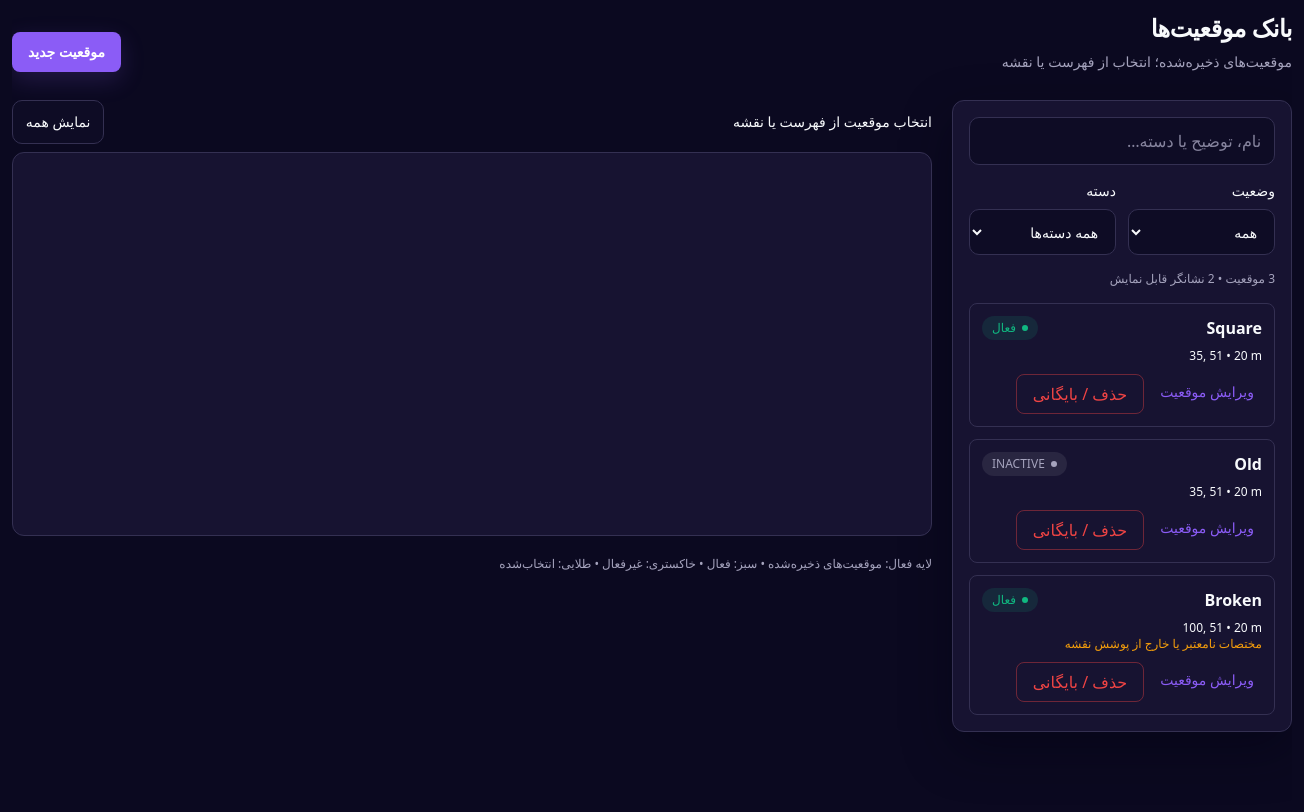
Scenario: synchronizes list and marker selection, filters markers, and exposes invalid records
Expected: the text "Square" is shown, [1206,316,1262,340]
Click the button "Square فعال 35, 51 • 20 m": (1234, 328) [982,316,1262,364]
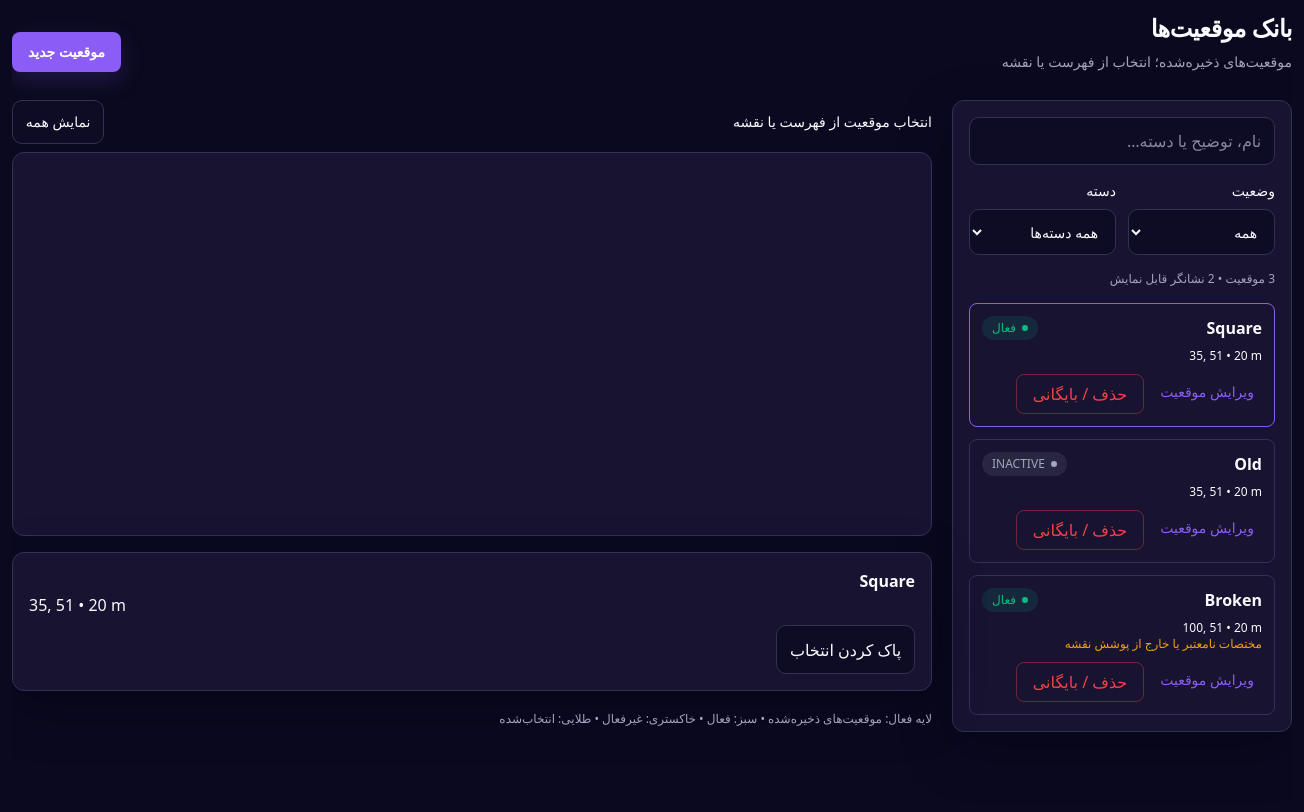
Click the button "پاک کردن انتخاب": (846, 650) [776,625,915,674]
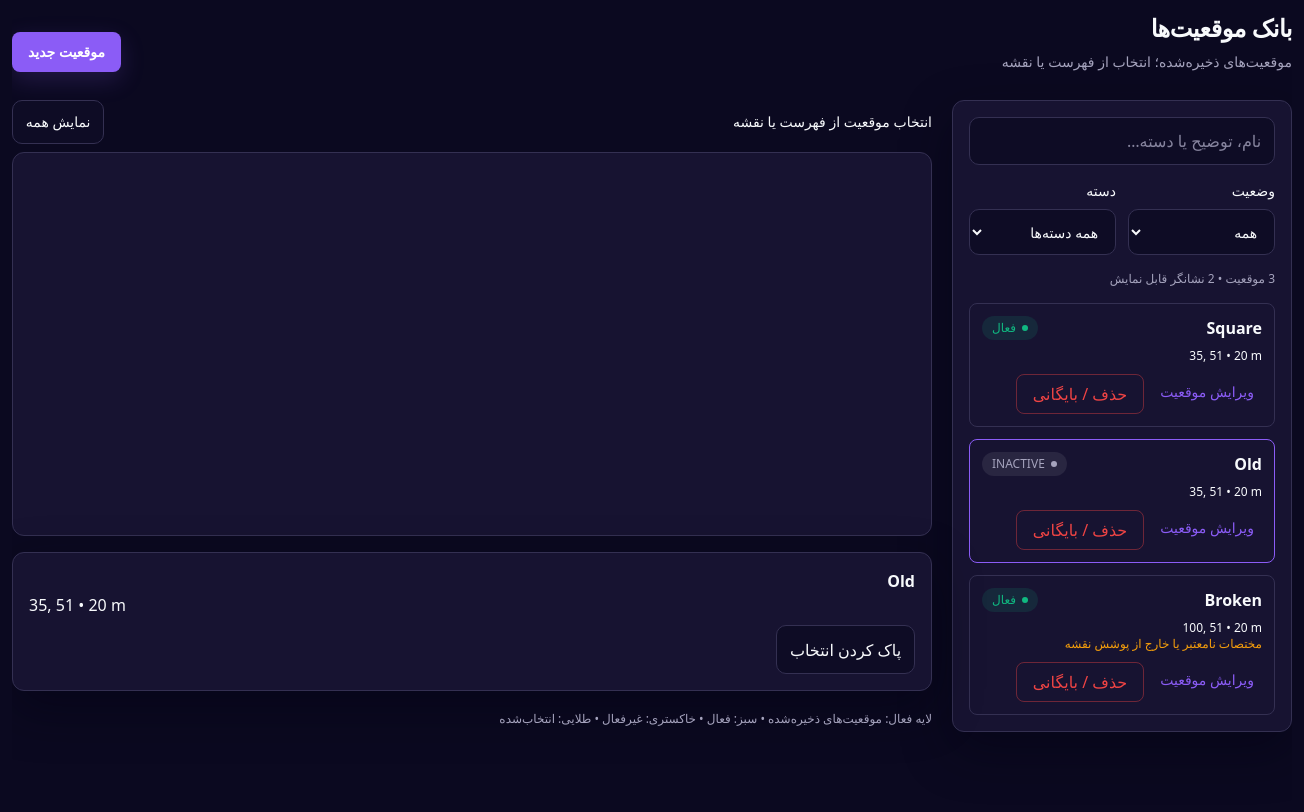
Select "فعال" in the dropdown labelled "وضعیت": (1202, 232) [1128,209,1275,255]
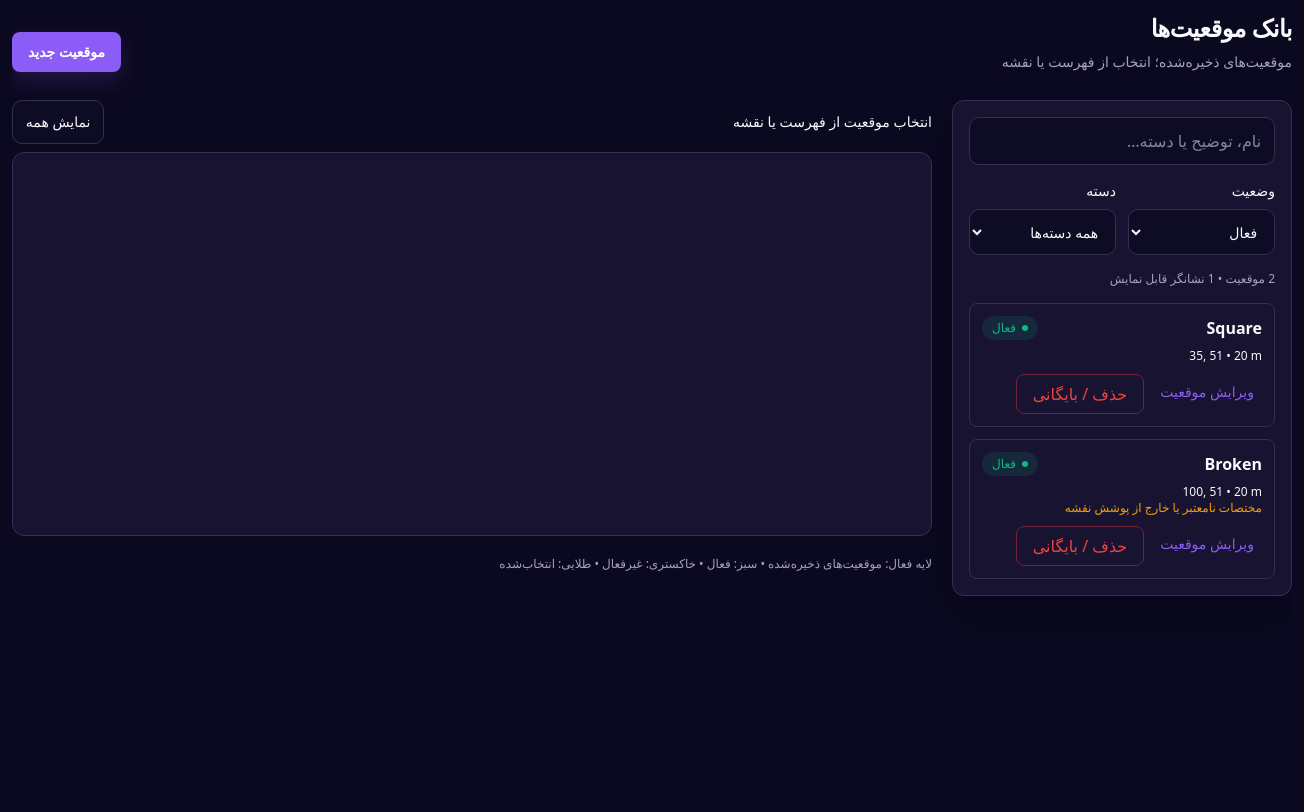
In the field named "جستجو در بانک مکان": (1122, 141) [969,117,1275,165], type "missing"
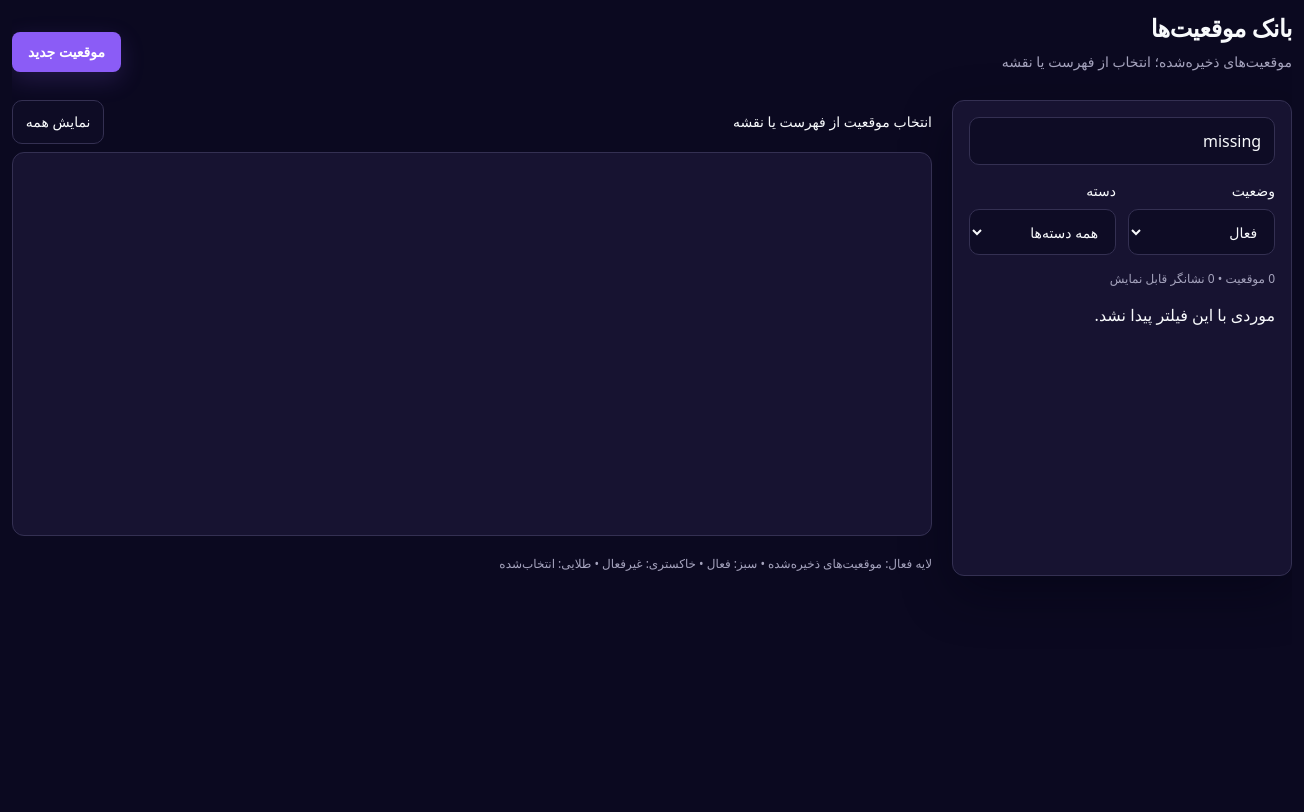
Now the text "موردی با این فیلتر پیدا نشد." is shown, box [1095,304,1275,326]
